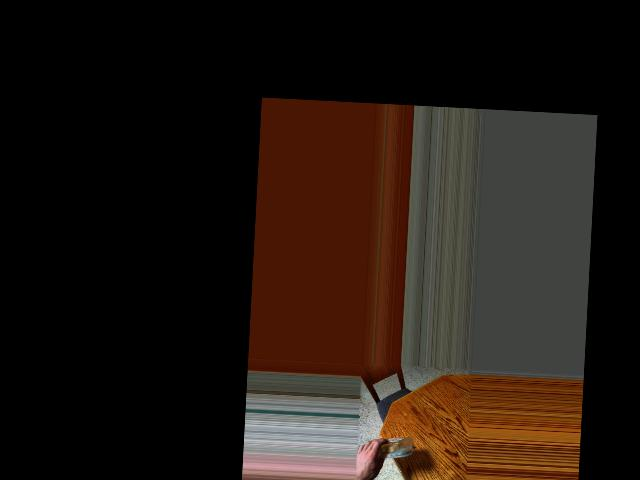cheese: (366, 426, 415, 477)
